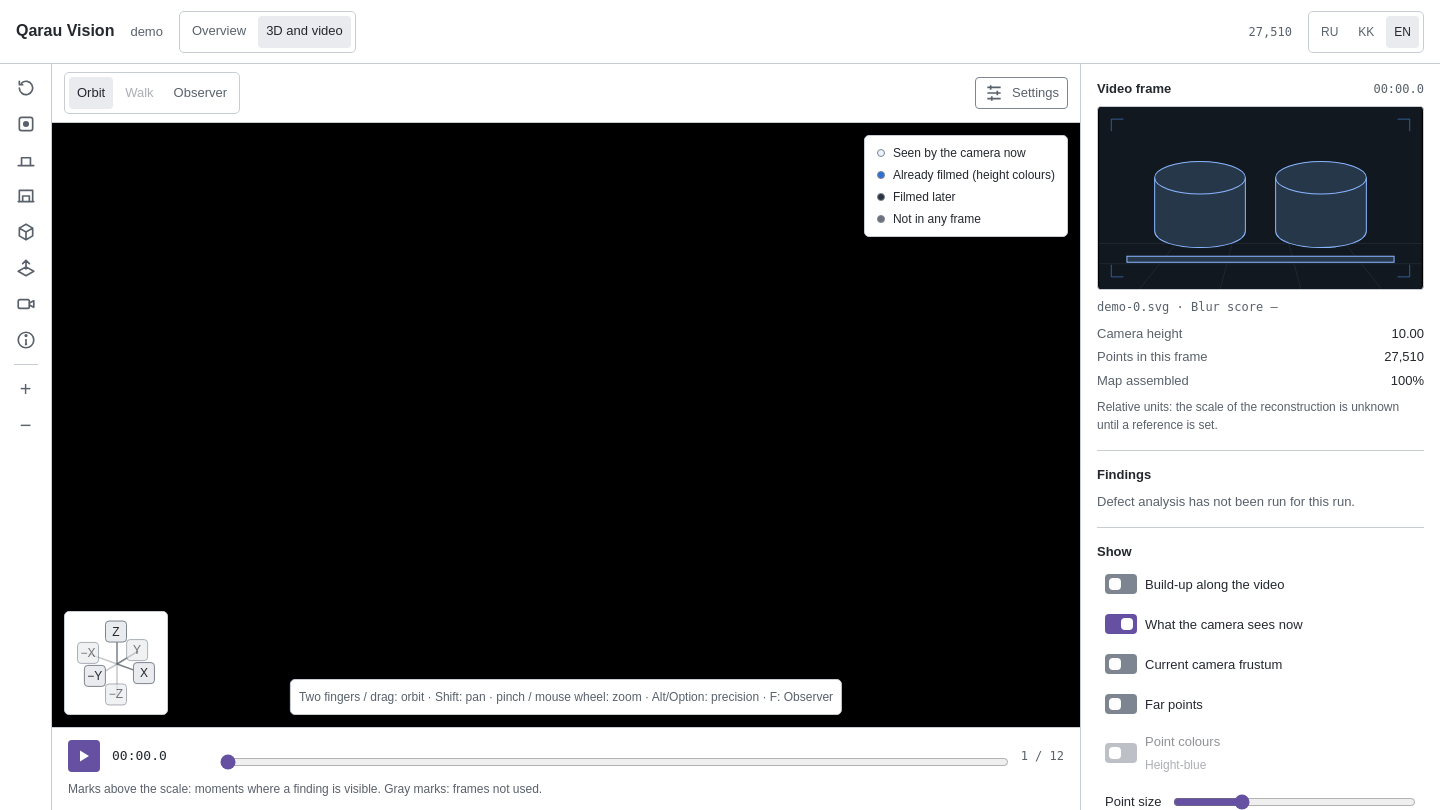
it: localizes navigation modes, presets, surface alignment and settings (en)
Expected: the button "Walk" is disabled, [117,77,162,109]
Click the button "Observer" at point(200, 93), box [166,77,235,109]
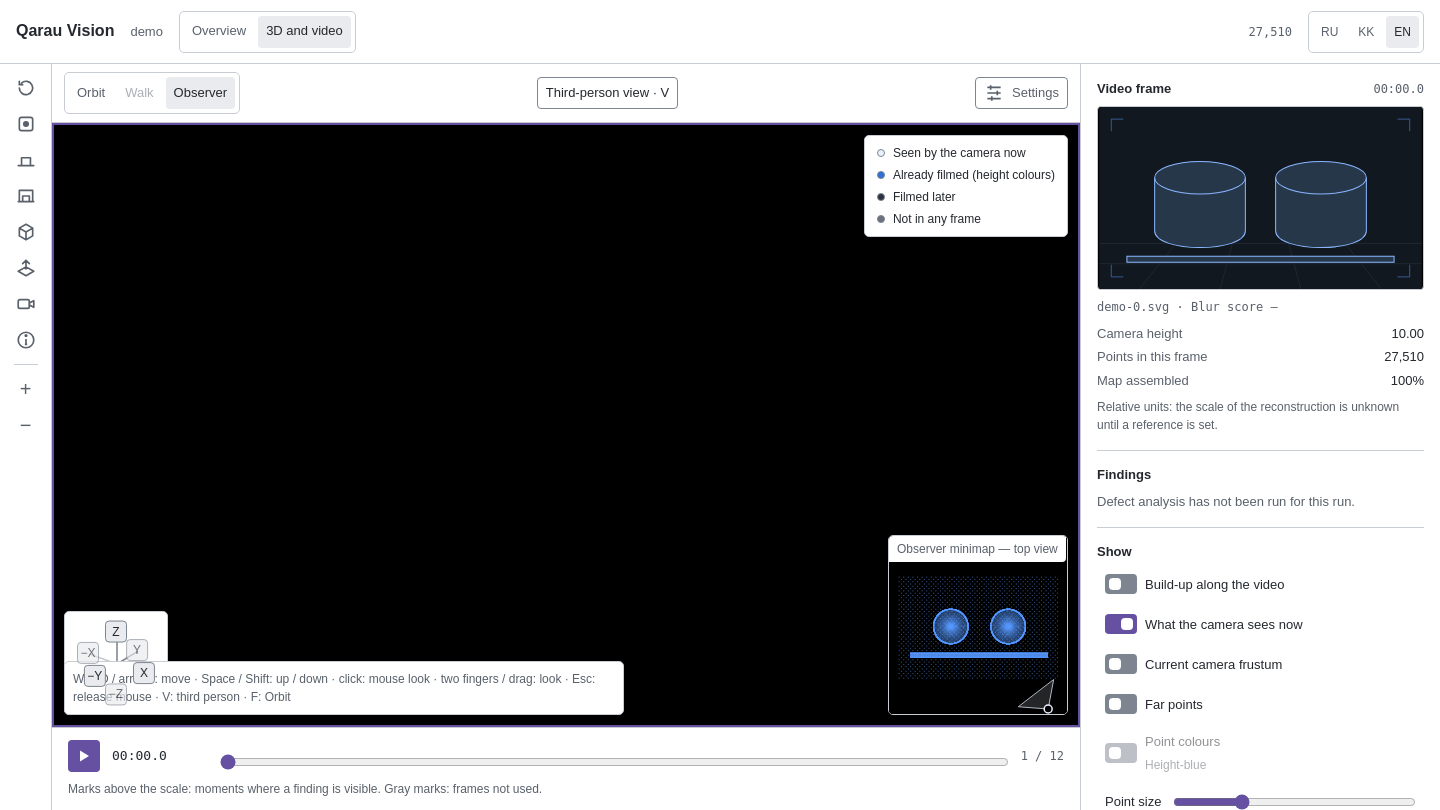
Now the message shows "WASD / arrows: move · Space / Shift: up / down · click: mouse look · two fingers / drag: look · Esc: release mouse · V: third person · F: Orbit", box [73,672,595,704]
Click the button "Orbit" at point(91, 93), box [69,77,113,109]
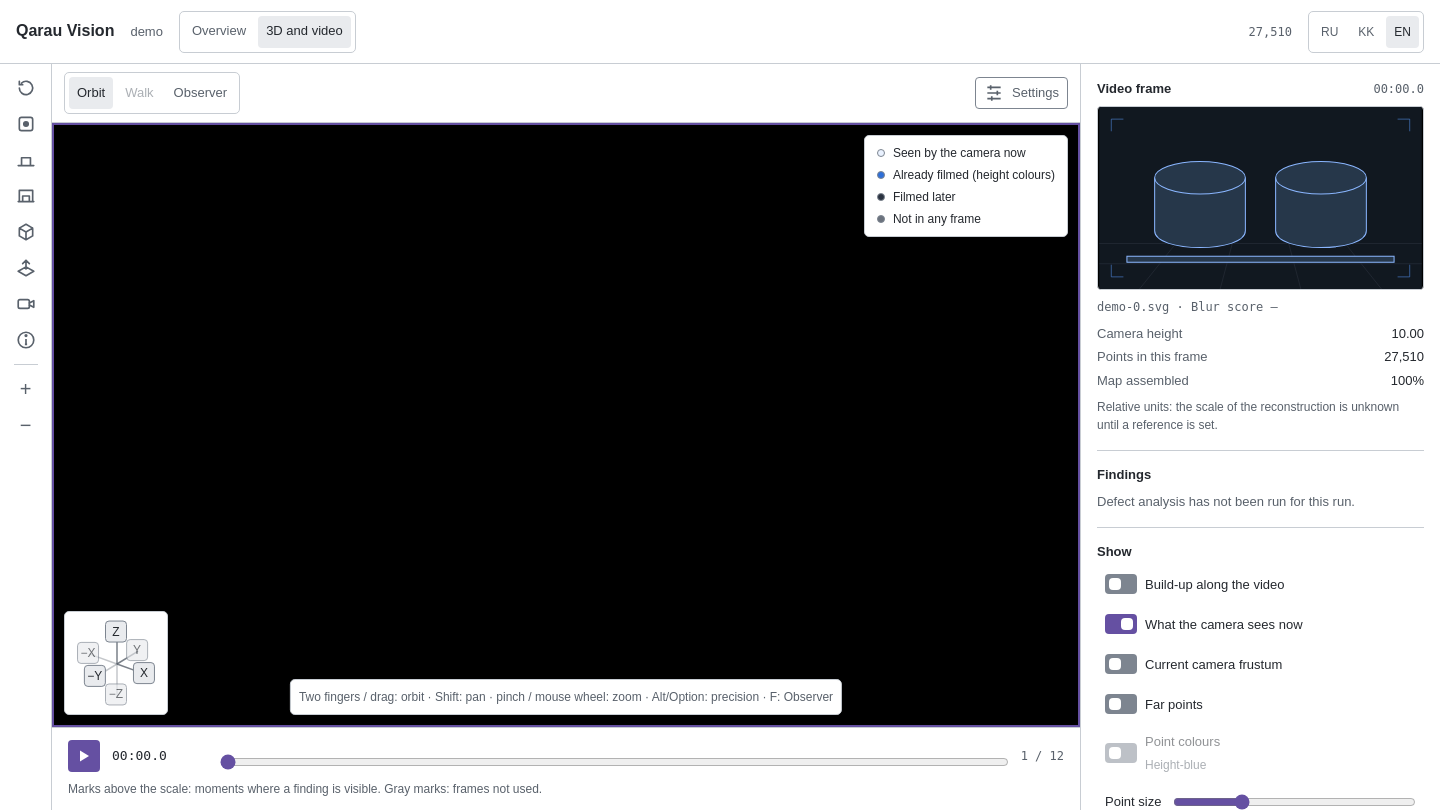
Expected: the button named "Top view" is shown, [10,108,42,140]
Expected: the button named "Front view" is shown, [10,180,42,212]
Click the button named "Align to surface" at point(26, 268), box [10,252,42,284]
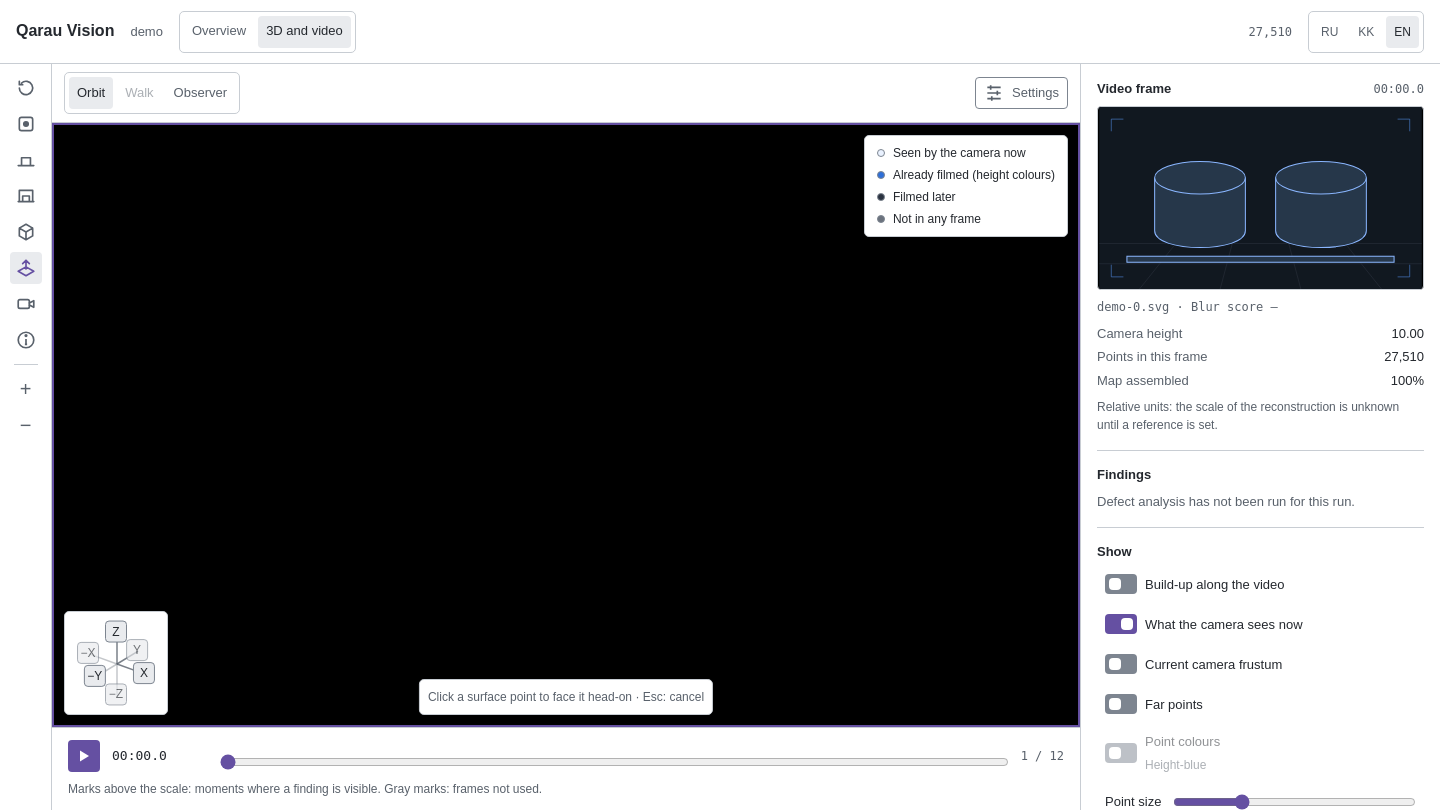
Now the message reads "Click a surface point to face it head-on · Esc: cancel", box [428,690,704,704]
Press Escape in the drawing named "Interactive 3D map with point cloud and camera path. Two-finger drag or mouse drag: orbit. Shift: pan. Pinch or mouse wh", box [52,123,1080,727]
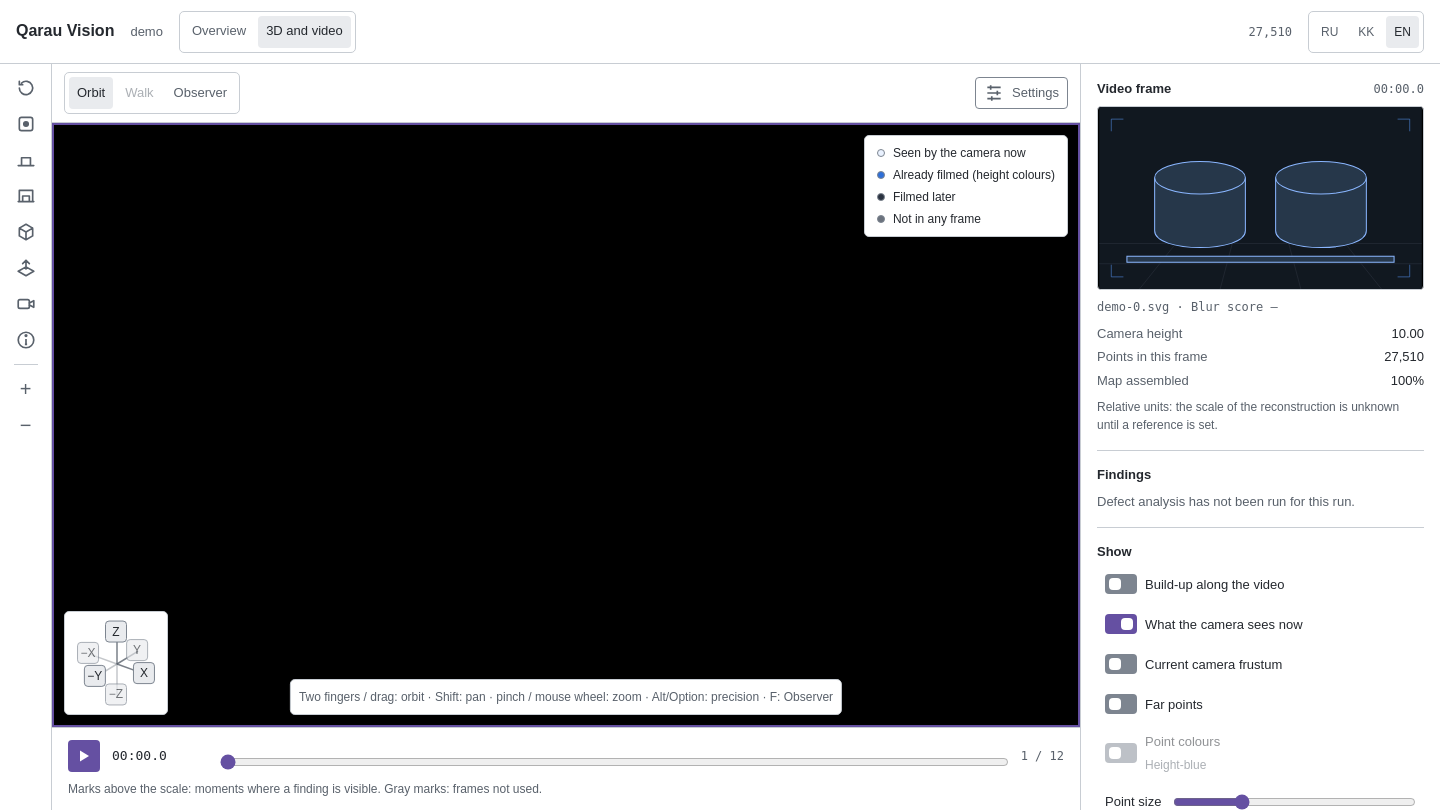
Now the message shows "Two fingers / drag: orbit · Shift: pan · pinch / mouse wheel: zoom · Alt/Option: precision · F: Observer", box [299,690,833,704]
Click the heading "Settings" at point(1022, 93), box [975,77,1068,109]
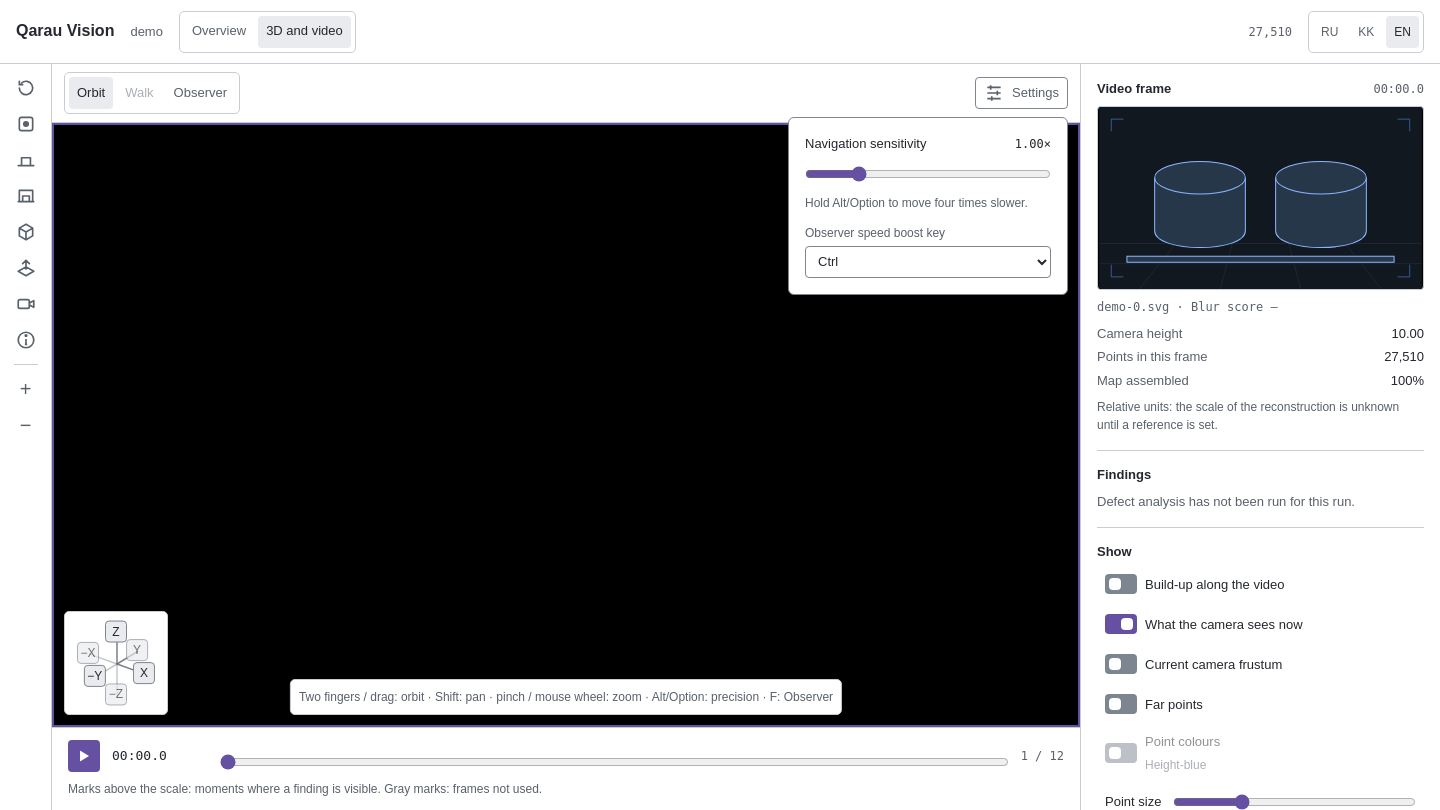
Now the slider labelled "Navigation sensitivity" is shown, box [805,166,1051,182]
Now the text "Hold Alt/Option to move four times slower." is shown, box [805,194,1051,212]
